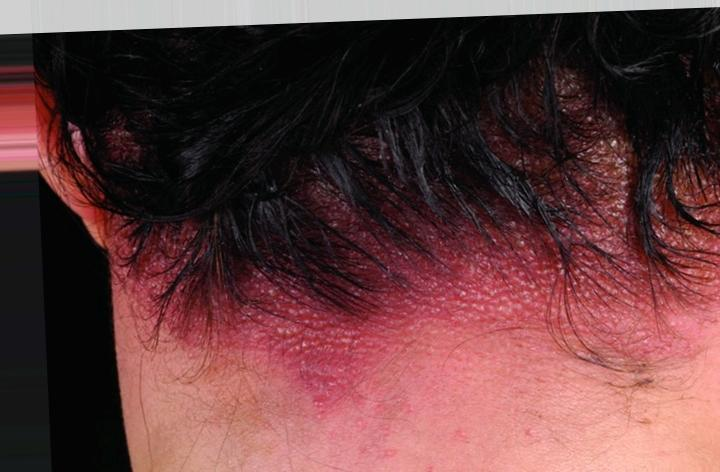Contact Dermatitis: (140, 121, 674, 376)
